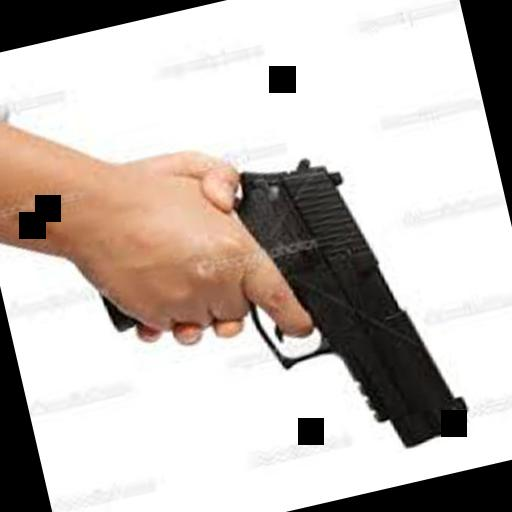Handgun: (69, 126, 471, 508)
